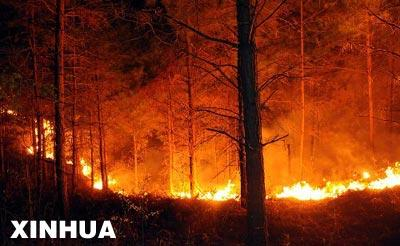fire: (72, 42, 239, 157), (263, 28, 396, 158), (273, 178, 400, 199), (195, 186, 240, 202)
